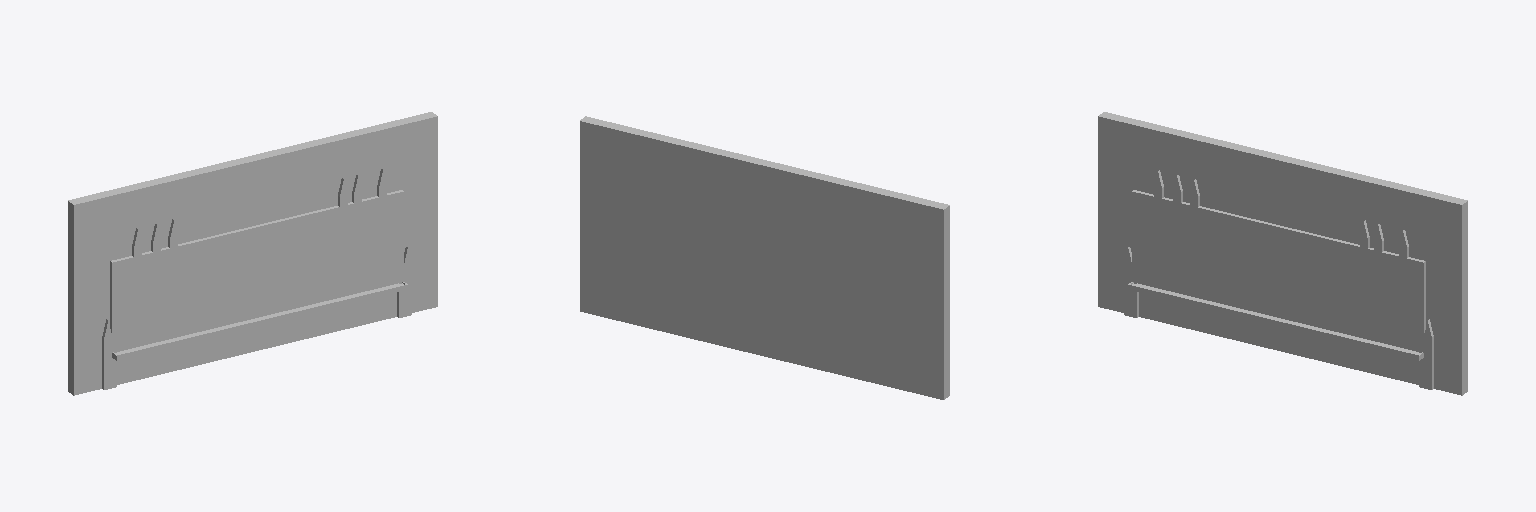
The model's file is writing board.obj.
3 views of the same model, side by side, from view 1: azimuth 30°, elevation 25°; view 2: azimuth 150°, elevation 25°; view 3: azimuth 330°, elevation 25° (orthographic).
Visible parts, largest first — view 1: Line467, Line455, Line466, Line219; view 2: Line467; view 3: Line467, Line455, Line466, Line219.
Boxes of the visible parts, x1=… form: Line467: x1=68, y1=112, x2=437, y2=395; Line455: x1=117, y1=197, x2=398, y2=351; Line466: x1=110, y1=190, x2=403, y2=387; Line219: x1=112, y1=282, x2=407, y2=360; Line467: x1=580, y1=116, x2=949, y2=399; Line467: x1=1098, y1=112, x2=1467, y2=395; Line455: x1=1137, y1=197, x2=1418, y2=351; Line466: x1=1132, y1=190, x2=1425, y2=387; Line219: x1=1128, y1=282, x2=1423, y2=360.
Size of the model in its own units: 500 by 250 by 30.